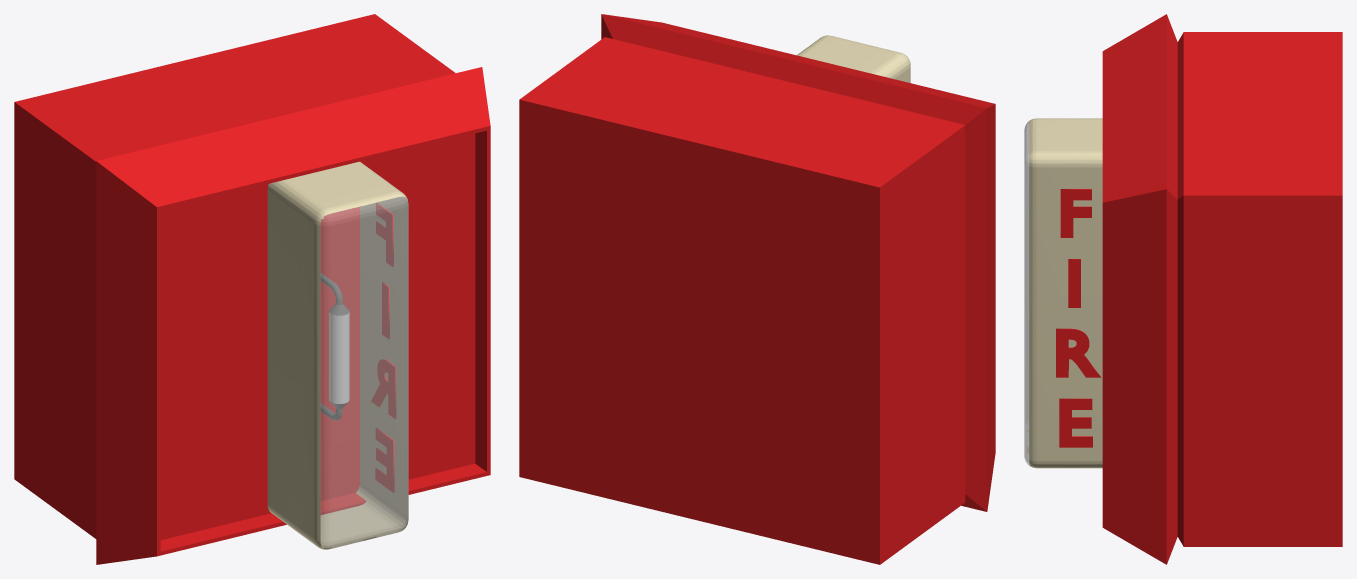
The picture shows the model from 3 angles, left to right: view 1: azimuth 30°, elevation 25°; view 2: azimuth 150°, elevation 25°; view 3: azimuth 270°, elevation 25°; orthographic projection. The views are drawn at different scales.
Visible parts, largest first — view 1: Detector.002, Detector, Fire text, Detector.003; view 2: Detector.002, Detector; view 3: Detector.002, Detector, Fire text.
Part boxes in pixels (x1,y1,x2,y2): Detector.002: (14, 14, 490, 564); Detector: (267, 161, 408, 549); Fire text: (371, 202, 396, 492); Detector.003: (320, 273, 349, 420); Detector.002: (519, 14, 995, 564); Detector: (797, 35, 910, 82); Detector.002: (1102, 14, 1342, 564); Detector: (1024, 118, 1102, 468); Fire text: (1056, 189, 1101, 447).
Size of the model in its own units: 0.1298 by 0.1298 by 0.0997.
